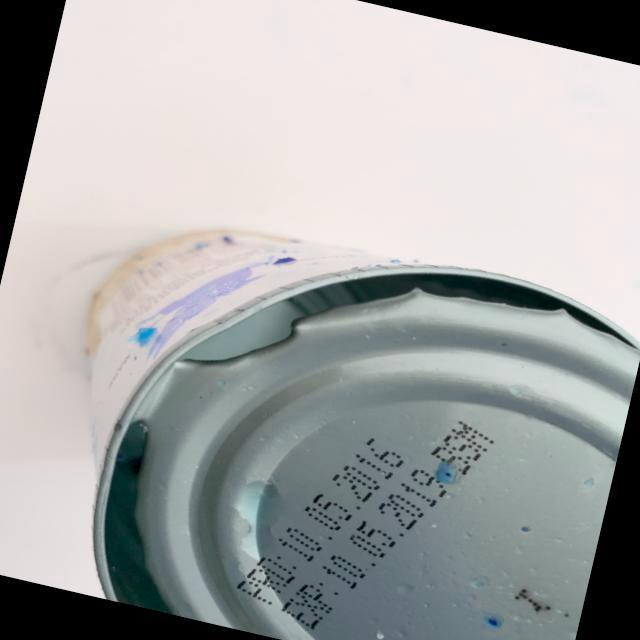metal: (8, 159, 640, 640)
